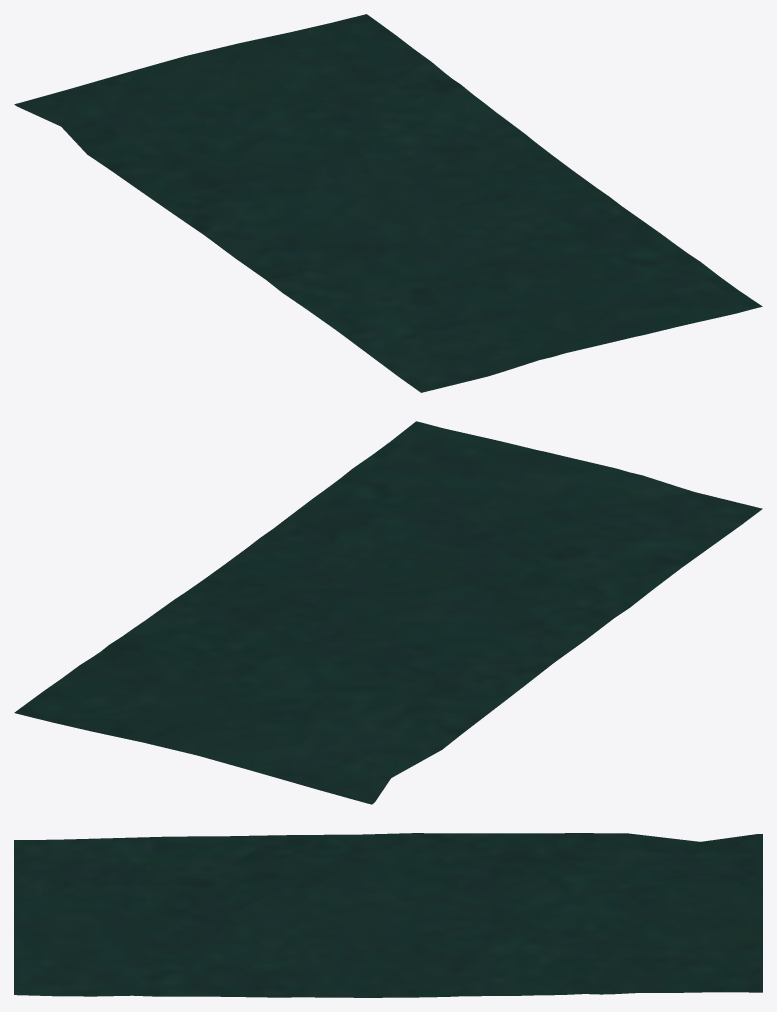
The picture shows the model from 3 angles, top to bottom: view 1: azimuth 30°, elevation 25°; view 2: azimuth 150°, elevation 25°; view 3: azimuth 270°, elevation 25°; orthographic projection. The views are drawn at different scales.
Bounding box in the file's own units: 26.84 × 0.6309 × 52.22.
Materials: 1 (1 with a texture image).
